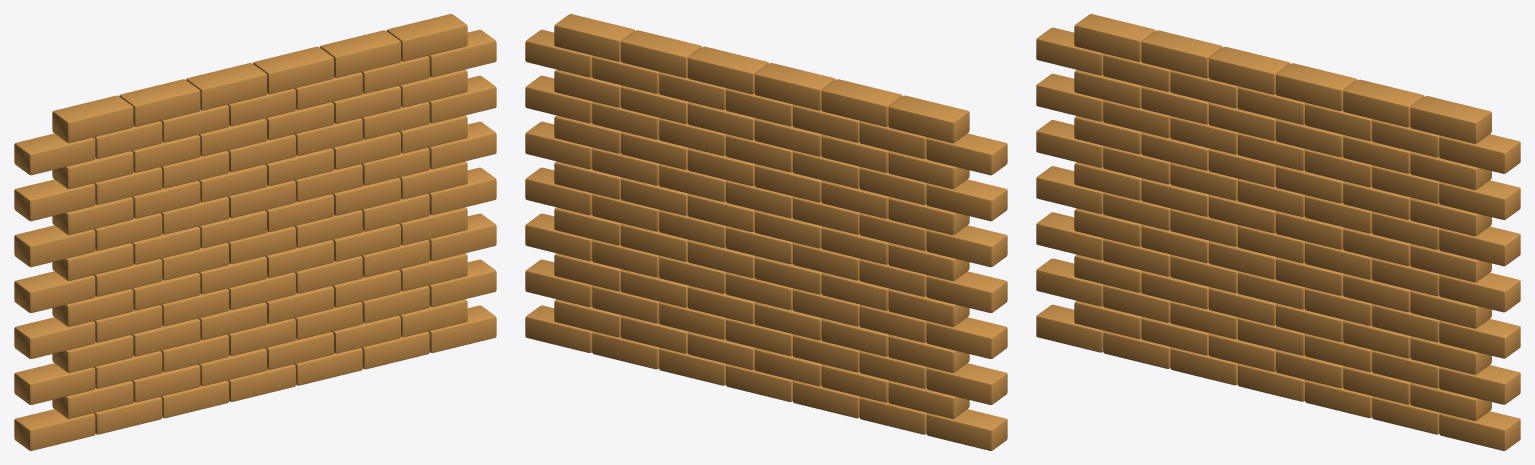
Rendered from Destructible_wall_with_anim.glb.
3 renders of one model, left to right at view 1: azimuth 30°, elevation 25°; view 2: azimuth 150°, elevation 25°; view 3: azimuth 330°, elevation 25°, orthographic.
Visible parts, largest first — view 1: Box087, Box088, Box090, Box091, Box092, Box089, Box054, Box080, Box067, Box015, Box001, Box028 (+79 smaller); view 2: Box087, Box088, Box090, Box091, Box092, Box089, Box054, Box080, Box067, Box015, Box001, Box028 (+79 smaller); view 3: Box092, Box091, Box088, Box087, Box090, Box089, Box034, Box060, Box047, Box021, Box007, Box086 (+79 smaller).
Boxes of the visible parts, box(x1,y1,x2,y2) form: Box087: box(52, 95, 133, 143); Box088: box(119, 79, 200, 126); Box090: box(253, 46, 333, 94); Box091: box(320, 30, 400, 77); Box092: box(387, 14, 467, 61); Box089: box(186, 63, 266, 110); Box054: box(14, 225, 95, 267); Box080: box(14, 133, 95, 175); Box067: box(14, 179, 95, 221); Box015: box(14, 363, 95, 404); Box001: box(14, 409, 95, 450); Box028: box(14, 317, 95, 358); Box087: box(888, 95, 969, 143); Box088: box(821, 79, 902, 126); Box090: box(688, 46, 768, 94); Box091: box(621, 30, 701, 77); Box092: box(554, 14, 634, 61); Box089: box(755, 63, 835, 110); Box054: box(926, 225, 1007, 267); Box080: box(926, 133, 1007, 175); Box067: box(926, 179, 1007, 221); Box015: box(926, 363, 1007, 404); Box001: box(926, 409, 1007, 450); Box028: box(926, 317, 1007, 358); Box092: box(1410, 96, 1491, 143); Box091: box(1343, 79, 1424, 127); Box088: box(1141, 30, 1222, 78); Box087: box(1074, 14, 1155, 61); Box090: box(1276, 63, 1357, 110); Box089: box(1209, 47, 1289, 94); Box034: box(1439, 319, 1520, 358); Box060: box(1439, 226, 1520, 266); Box047: box(1439, 272, 1520, 312); Box021: box(1439, 365, 1520, 404); Box007: box(1439, 411, 1520, 450); Box086: box(1439, 134, 1520, 173).
Bounding box in the file's own units: 9.29 × 6.08 × 0.5649.
